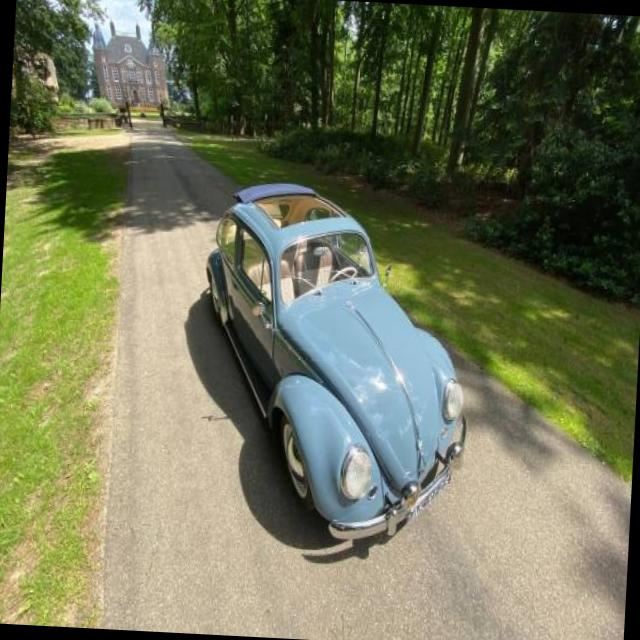car: (187, 182, 483, 538)
